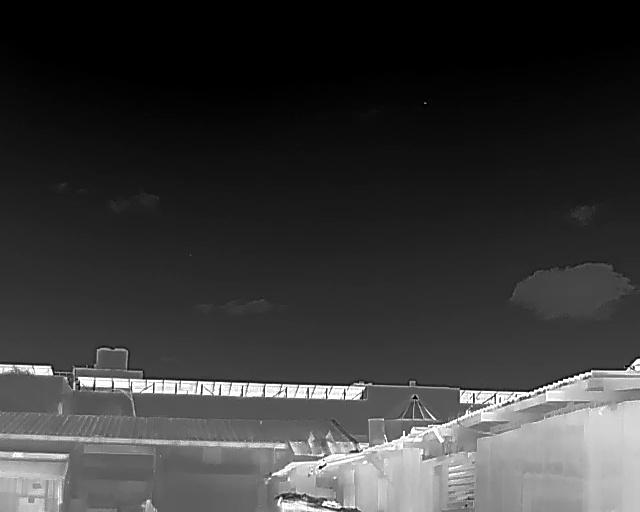fpv-drone: (423, 101, 427, 104)
